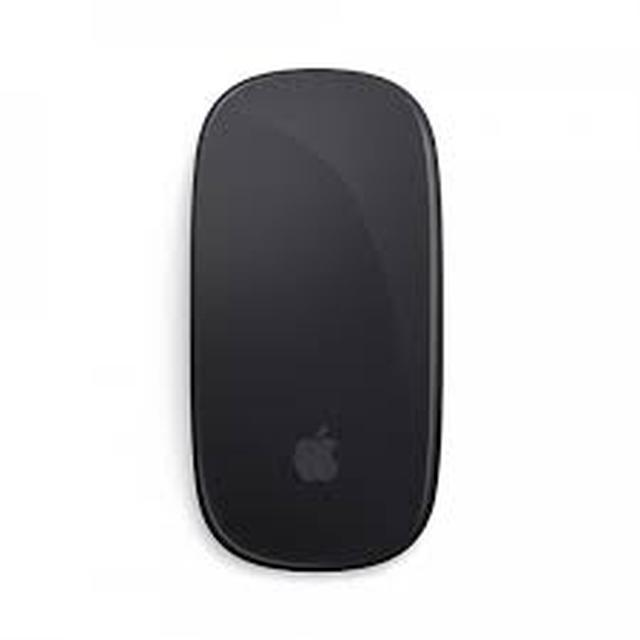mouse: (165, 46, 480, 582)
